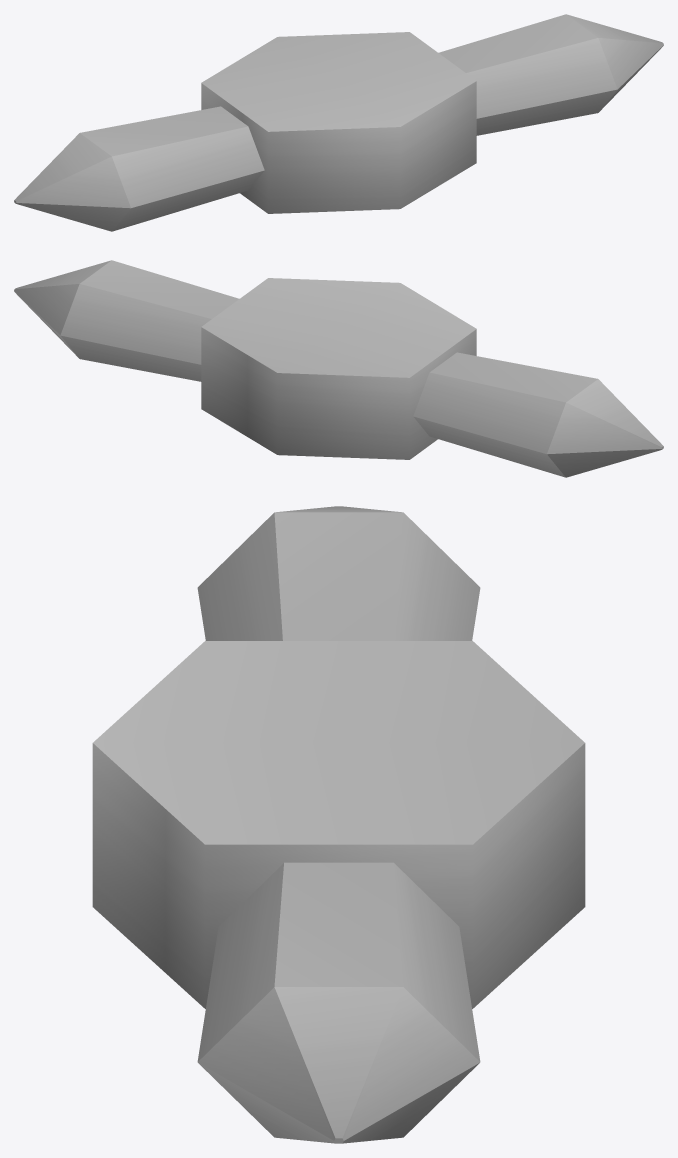
Rendered from stone_guard_053.glb.
The picture shows the model from 3 angles, top to bottom: view 1: azimuth 30°, elevation 25°; view 2: azimuth 150°, elevation 25°; view 3: azimuth 270°, elevation 25°; orthographic projection. The views are drawn at different scales.
Parts seen in each view (by area): view 1: stone_guard.053; view 2: stone_guard.053; view 3: stone_guard.053.
Boxes of the visible parts, bbox=[...] form: stone_guard.053: bbox=[14, 14, 663, 231]; stone_guard.053: bbox=[14, 260, 663, 477]; stone_guard.053: bbox=[92, 506, 585, 1143].
Bounding box in the file's own units: 9.73 × 1.18 × 3.21.
1 material, 1 textured.
